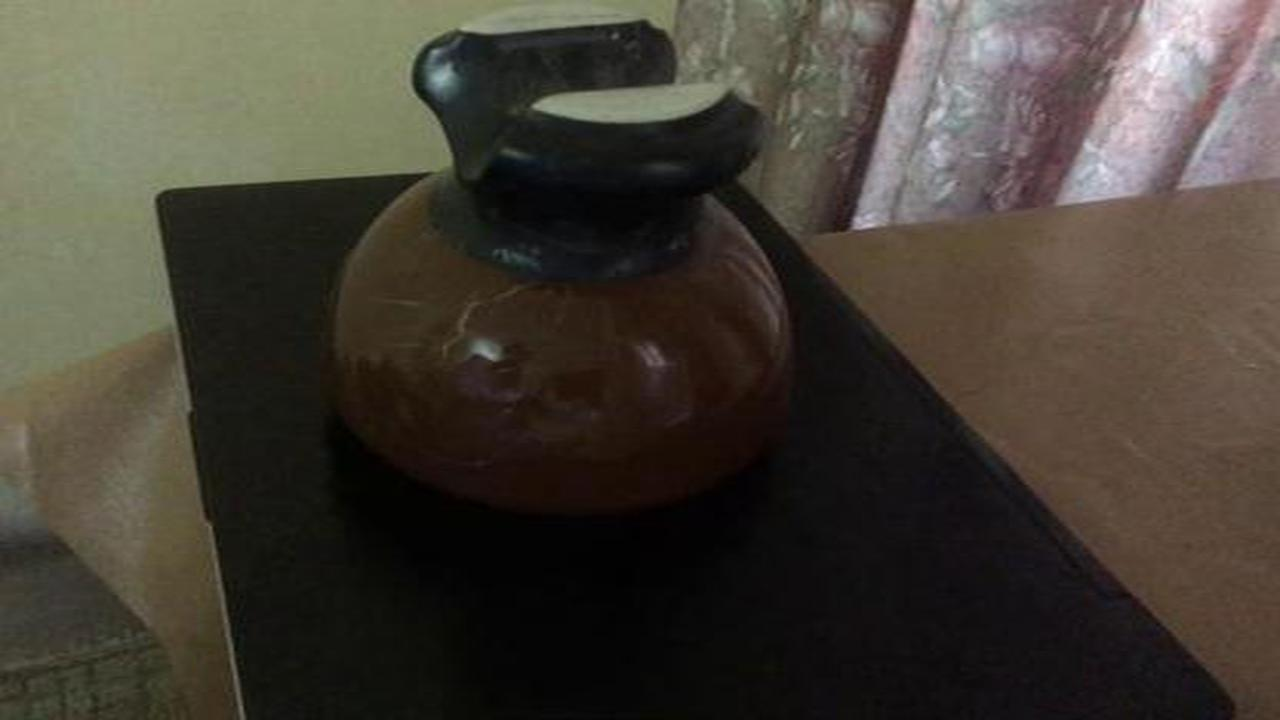insulator_pin: (299, 4, 834, 521)
